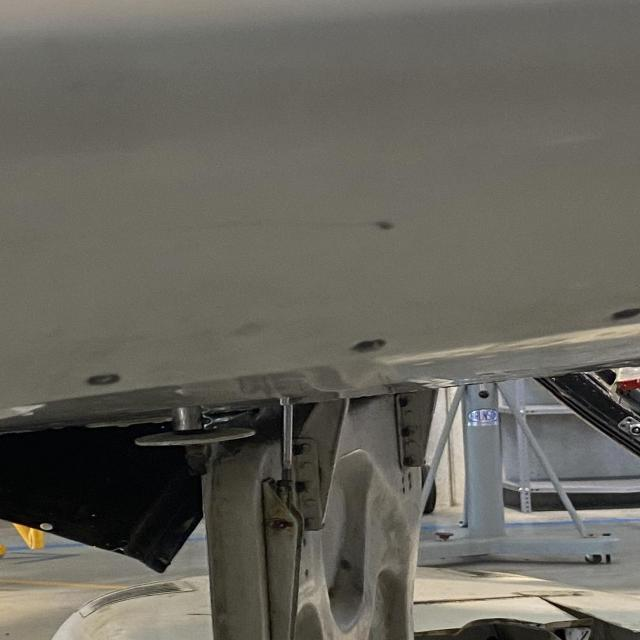Missing-head: (83, 372, 121, 388), (350, 338, 386, 354), (609, 306, 640, 323)
Paint-off: (319, 202, 429, 255)
